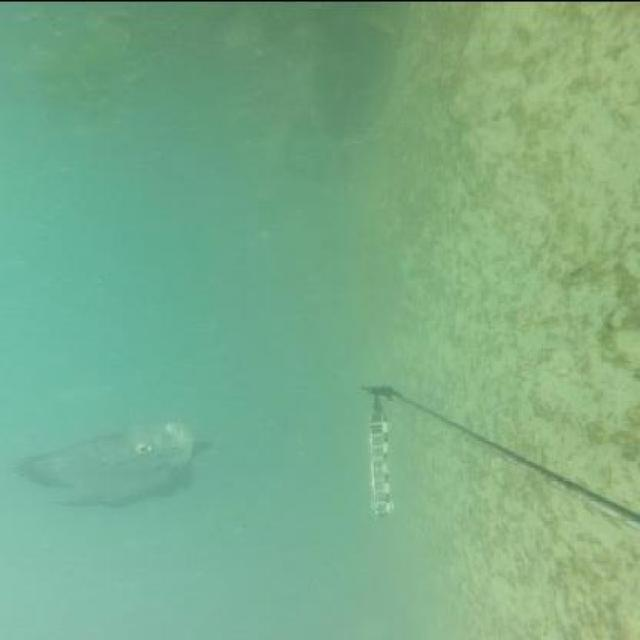acanthopagrus_palmaris: (19, 417, 212, 508)
